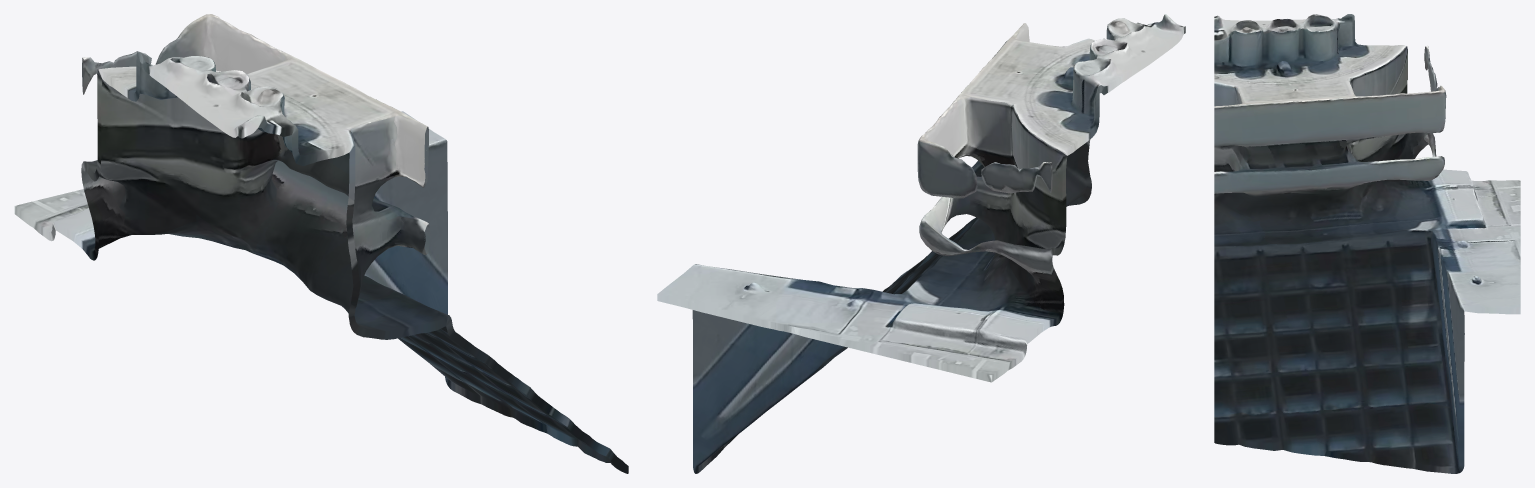
File: z20-167783-405225-h0-yup-uvflip-v3-world.glb
3 renders of one model, left to right at view 1: azimuth 30°, elevation 25°; view 2: azimuth 150°, elevation 25°; view 3: azimuth 270°, elevation 25°, orthographic. The views are drawn at different scales.
Size of the model in its own units: 30.16 by 36.68 by 30.32.
Materials: 1 (1 with a texture image).
